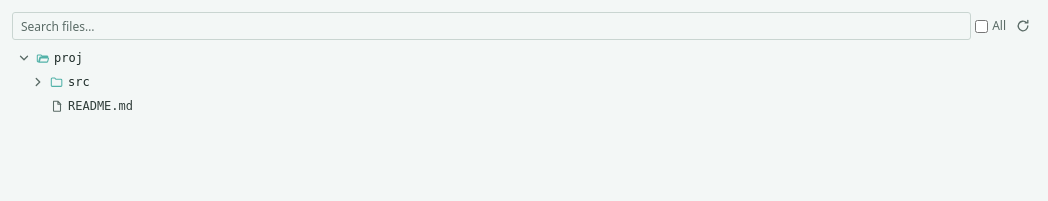
Test: FileTree › 点击目录懒加载子层，嵌套目录 relPath 用 / 拼接
Click the button "src". click: click(38, 82)
box: [26,72,1012,92]
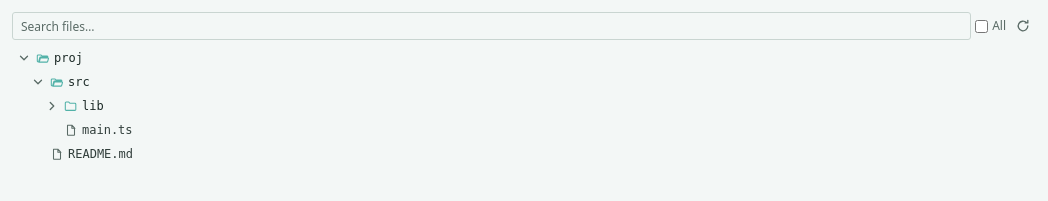
Expected: the text "main.ts" is shown, [82,122,133,138]
Click the button "lib". click: click(52, 106)
box: [40,96,1012,116]
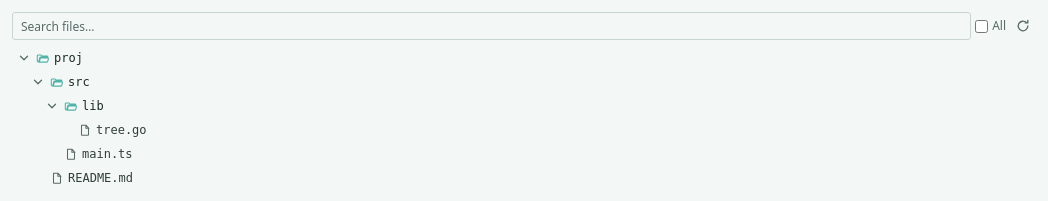
Expected: the text "tree.go" is shown, [96,122,147,138]
